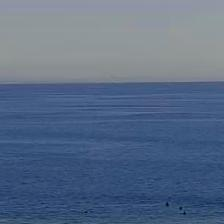surfer: (165, 202, 168, 206), (182, 211, 186, 214), (85, 210, 88, 213), (180, 206, 182, 209)
